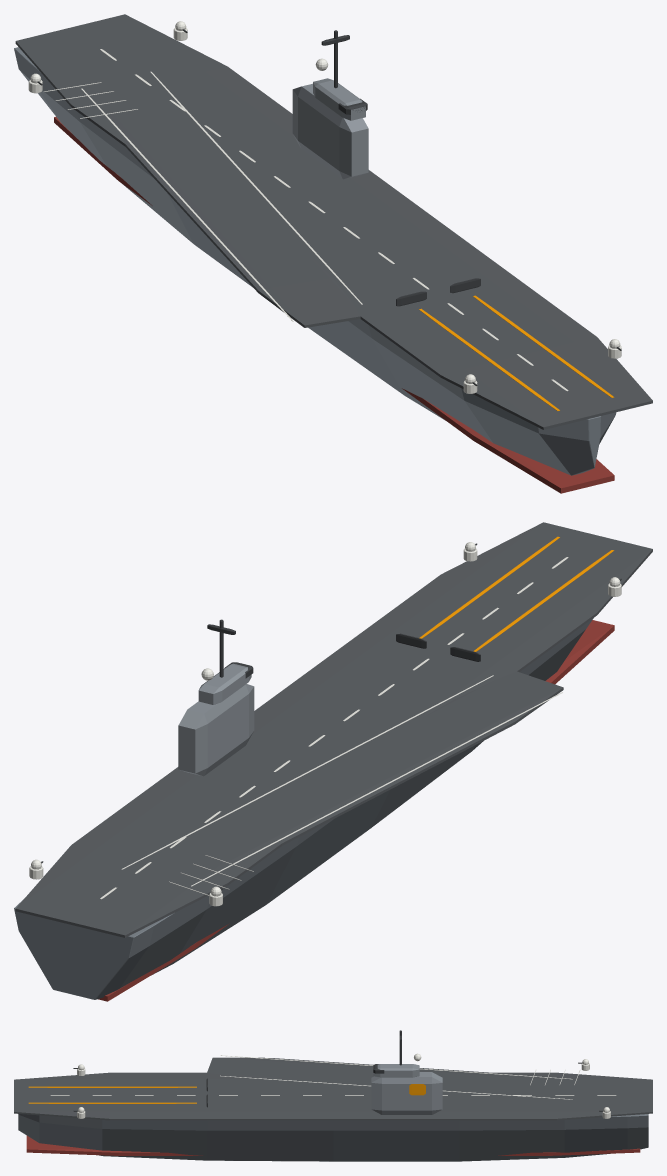
The model's file is Carrier_Anvil.fbx.
3 renders of one model, top to bottom at view 1: azimuth 30°, elevation 25°; view 2: azimuth 150°, elevation 25°; view 3: azimuth 270°, elevation 25°, orthographic. The views are drawn at different scales.
Visible parts, largest first — view 1: Deck.001, Hull.001, Island, Markings, Boot.001, Trim.001, Amber; view 2: Deck.001, Hull.001, Island, Markings, Boot.001, Trim.001, Amber; view 3: Deck.001, Hull.001, Island, Boot.001, Markings, Amber, Trim.001.
Boxes of the visible parts, <box> form: Deck.001: <box>15,14,652,429</box>; Hull.001: <box>14,47,616,475</box>; Island: <box>292,78,368,179</box>; Markings: <box>28,21,621,393</box>; Boot.001: <box>54,117,614,493</box>; Trim.001: <box>37,29,621,385</box>; Amber: <box>419,295,614,410</box>; Deck.001: <box>15,522,652,937</box>; Hull.001: <box>14,618,593,999</box>; Island: <box>178,663,254,776</box>; Markings: <box>29,542,621,906</box>; Boot.001: <box>98,620,614,1001</box>; Trim.001: <box>41,543,621,890</box>; Amber: <box>419,536,614,651</box>; Deck.001: <box>14,1057,652,1120</box>; Hull.001: <box>18,1114,648,1161</box>; Island: <box>371,1064,442,1114</box>; Boot.001: <box>26,1135,640,1155</box>; Markings: <box>50,1053,616,1118</box>; Amber: <box>28,1084,425,1103</box>; Trim.001: <box>73,1030,603,1111</box>.
Bounding box in the file's own units: 71 × 72 × 304.
